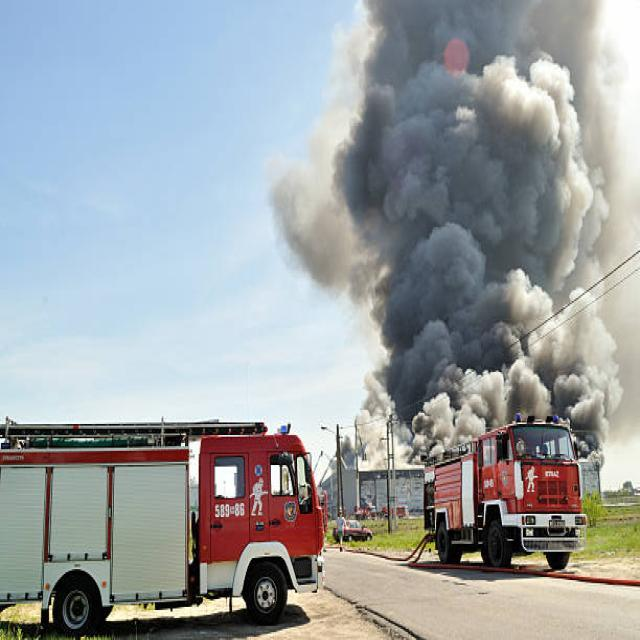Smoke: (272, 0, 623, 460)
